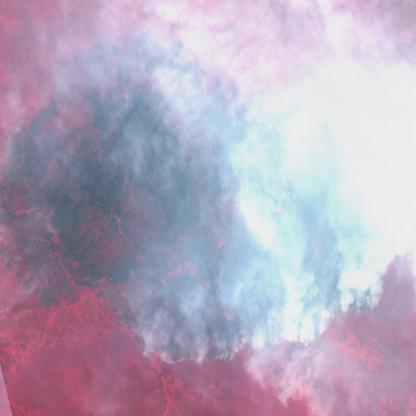fire: (0, 97, 416, 368)
